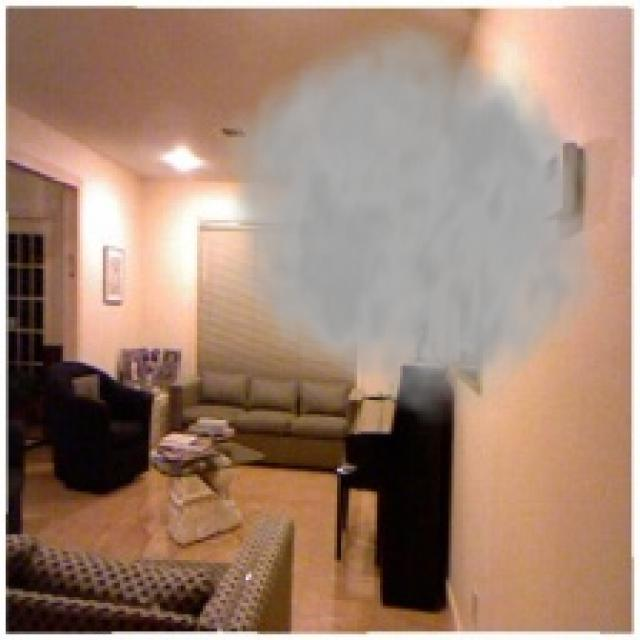smoke: (208, 9, 608, 434)
